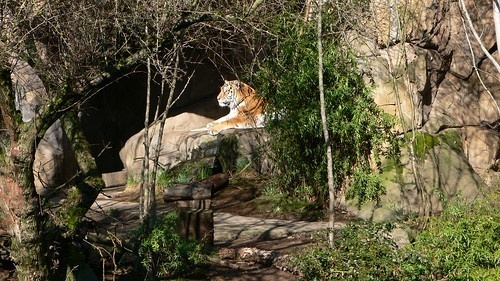tigre: (202, 73, 292, 137)
